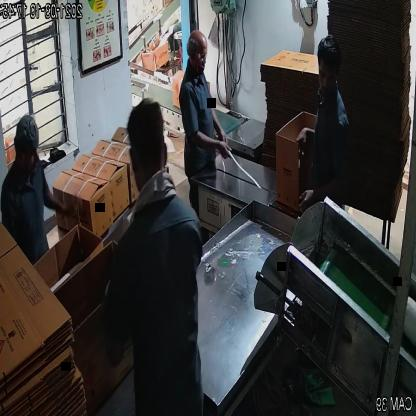no_glove: (294, 158, 347, 217), (186, 130, 236, 172), (42, 177, 82, 222), (212, 103, 233, 150)
